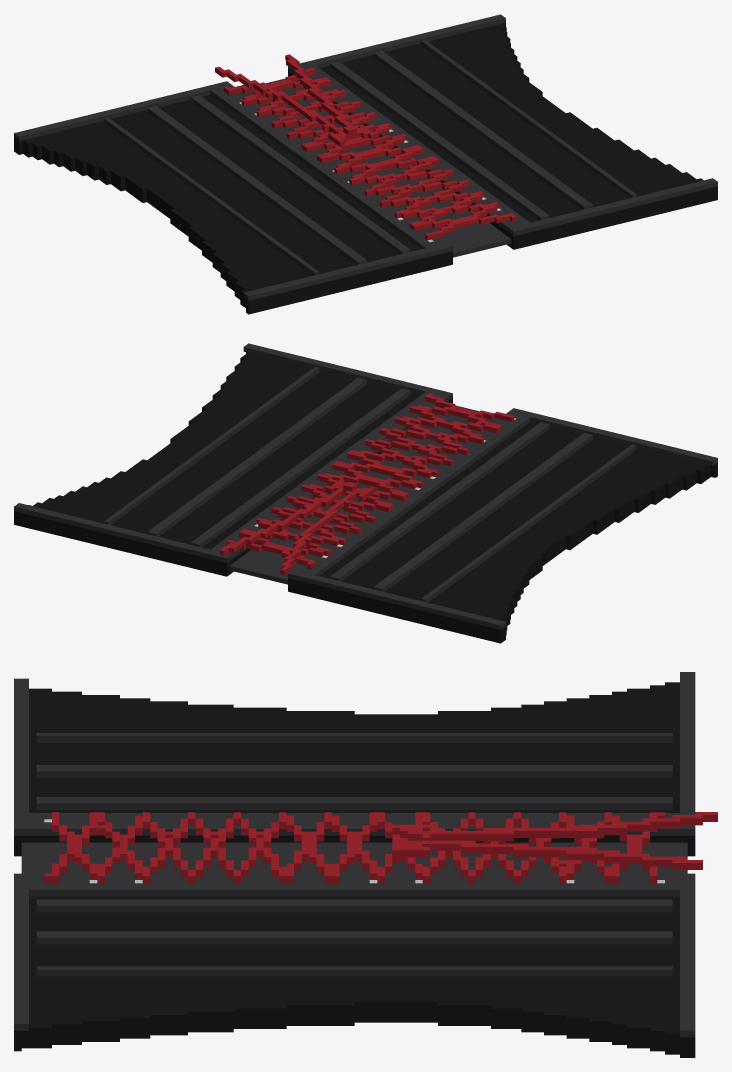
The model's file is corset_loose.glb.
3 renders of one model, top to bottom at view 1: azimuth 30°, elevation 25°; view 2: azimuth 150°, elevation 25°; view 3: azimuth 270°, elevation 25°, orthographic. The views are drawn at different scales.
Parts seen in each view (by area): view 1: corset_loose:compound; view 2: corset_loose:compound; view 3: corset_loose:compound.
Boxes of the visible parts, x1,y1,x2,y2 form: corset_loose:compound: [14, 14, 717, 314]; corset_loose:compound: [14, 343, 717, 643]; corset_loose:compound: [14, 672, 717, 1057].
Size of the model in its own units: 0.448 by 0.028 by 0.372.
